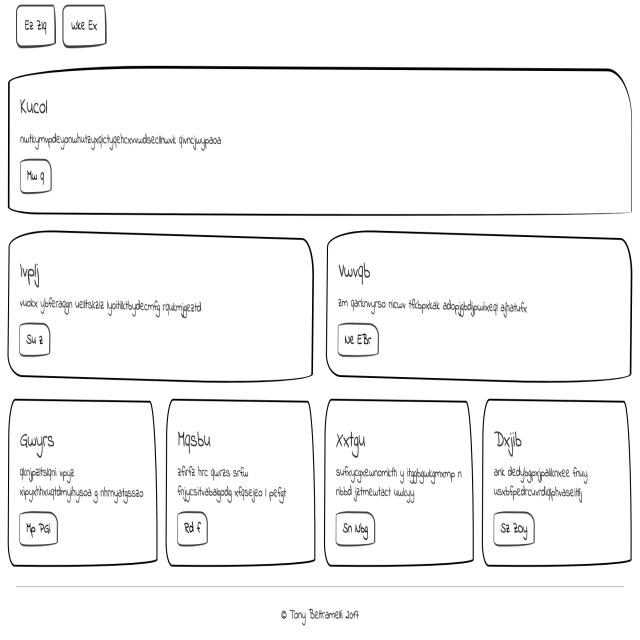Button: (339, 320, 386, 365), (16, 517, 65, 554), (490, 515, 535, 548), (16, 328, 62, 359), (22, 161, 68, 191), (335, 512, 379, 542), (176, 512, 209, 545)
Card: (0, 74, 639, 218), (0, 238, 312, 382), (326, 237, 640, 378), (5, 399, 160, 570), (168, 399, 316, 565), (324, 399, 472, 564), (491, 394, 629, 570)
Footer: (1, 587, 640, 640)
Heading 6: (18, 421, 70, 460), (495, 412, 535, 458), (336, 421, 377, 460), (9, 254, 55, 288), (16, 93, 68, 120), (336, 248, 375, 284), (176, 422, 213, 455)
Navigation Bar: (1, 5, 115, 50)
Paragraph: (11, 288, 218, 321), (326, 464, 478, 506), (13, 127, 243, 154), (176, 459, 296, 504), (329, 294, 544, 318), (494, 462, 589, 510), (18, 470, 152, 503)
